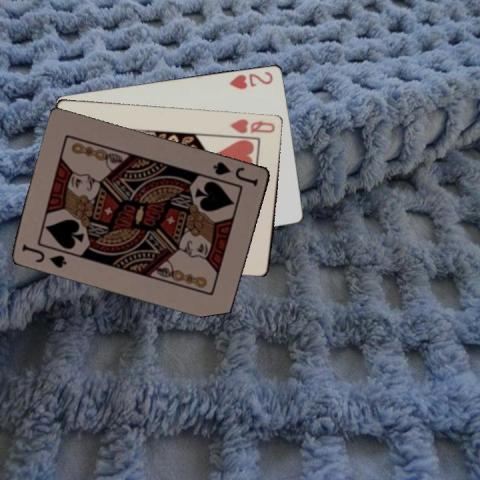2h: (226, 68, 274, 91)
Js: (210, 158, 260, 188), (18, 241, 68, 269)
Qh: (226, 115, 276, 135)
